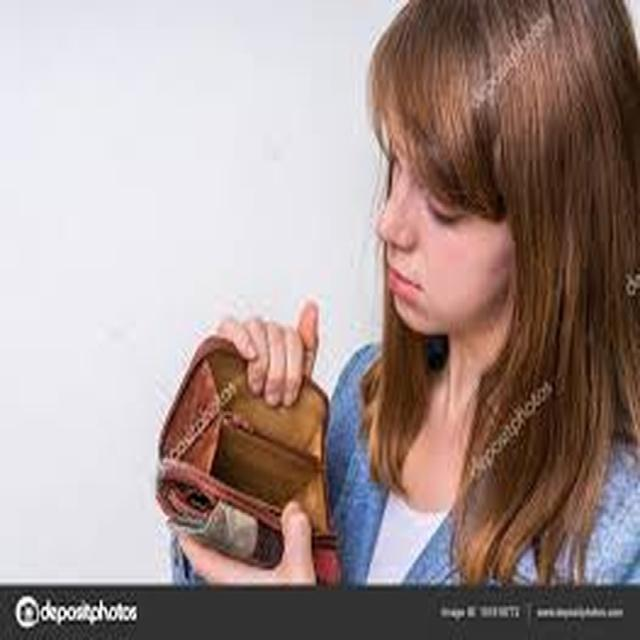wallet: (153, 296, 389, 590)
